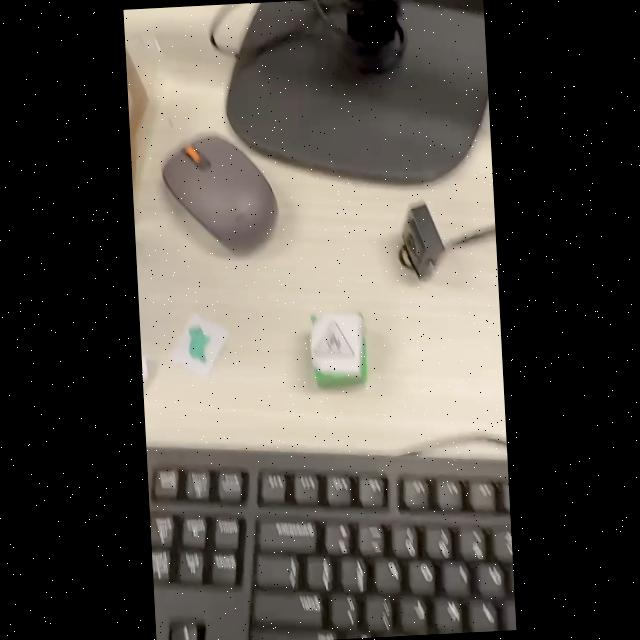Fire: (313, 320, 353, 356)
